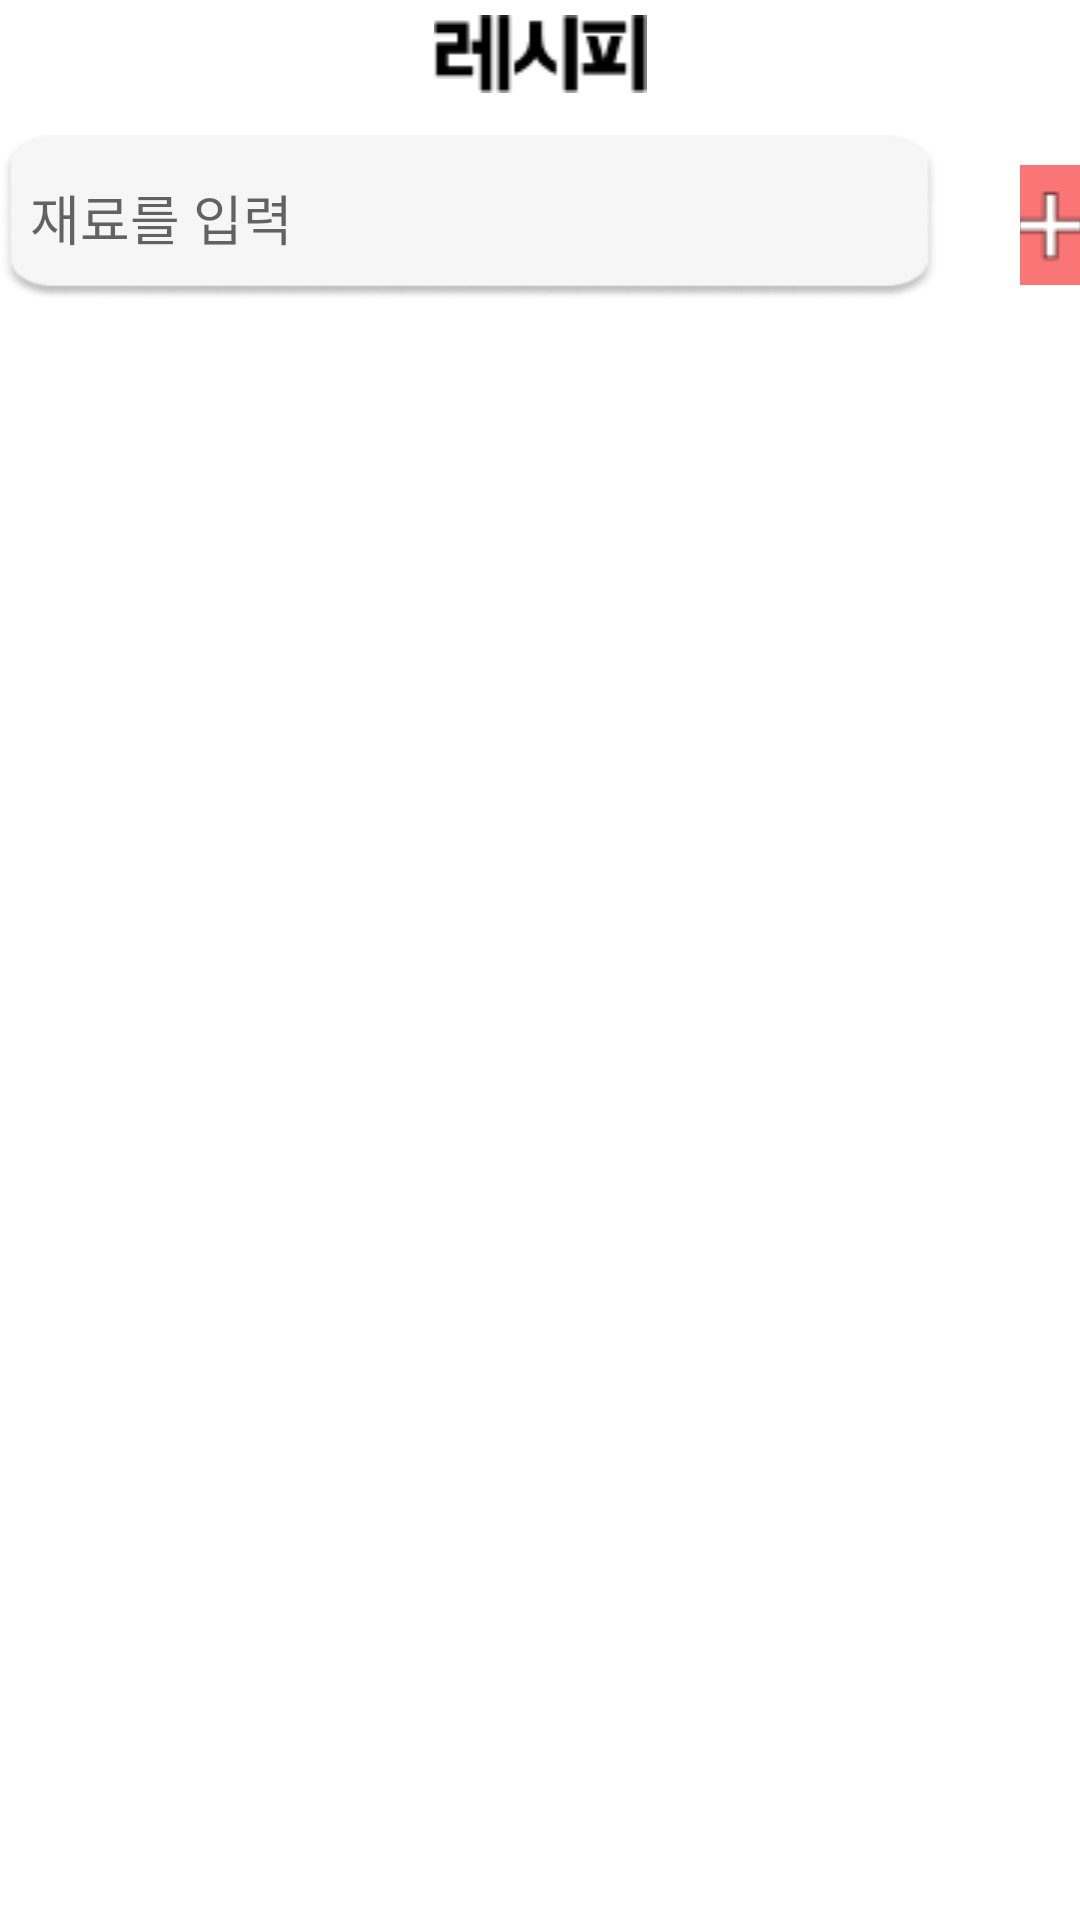

Icons on this 1080×1920 Android screen, each with the point to tap as [x,y]:
add: [1050,225]
